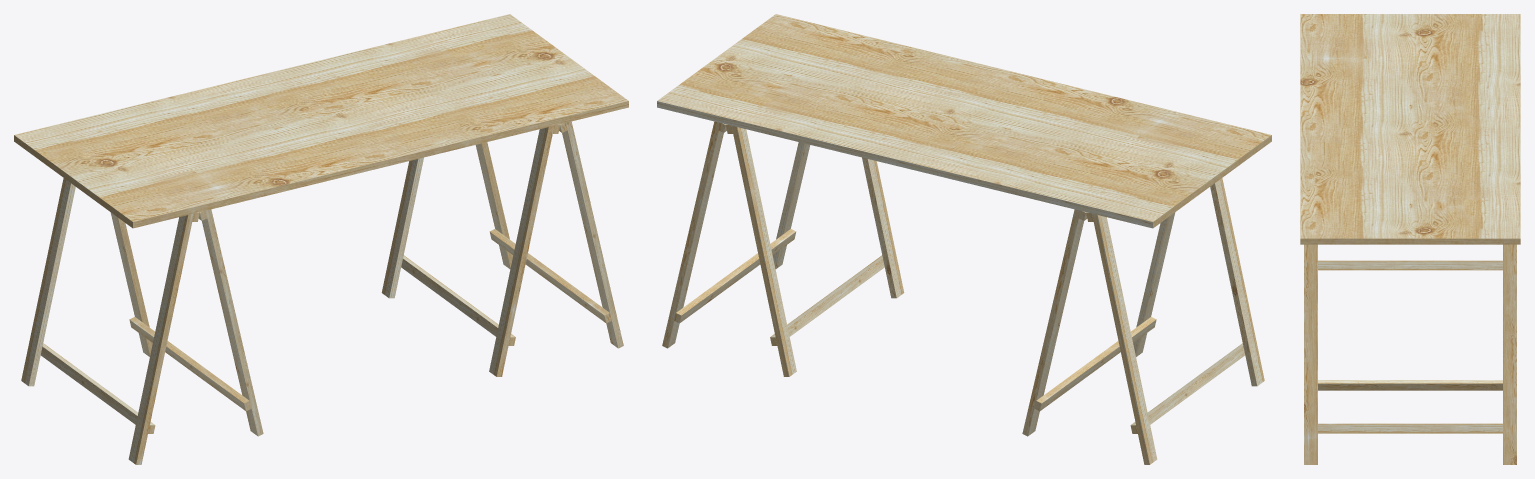
File: sweethome3d-scopia-table-on-trestles-299.glb
3 renders of one model, left to right at view 1: azimuth 30°, elevation 25°; view 2: azimuth 150°, elevation 25°; view 3: azimuth 270°, elevation 25°, orthographic. The views are drawn at different scales.
Parts seen in each view (by area): view 1: table_Cube, LeftTrestle_Cube.001, rightTrestle_Cube.002; view 2: table_Cube, LeftTrestle_Cube.001, rightTrestle_Cube.002; view 3: table_Cube, rightTrestle_Cube.002, LeftTrestle_Cube.001.
Boxes of the visible parts, x1,y1,x2,y2 form: table_Cube: [14, 14, 628, 228]; LeftTrestle_Cube.001: [21, 178, 263, 464]; rightTrestle_Cube.002: [381, 121, 623, 376]; table_Cube: [657, 14, 1271, 228]; LeftTrestle_Cube.001: [1022, 178, 1264, 464]; rightTrestle_Cube.002: [662, 121, 904, 376]; table_Cube: [1300, 14, 1520, 244]; rightTrestle_Cube.002: [1304, 244, 1516, 464]; LeftTrestle_Cube.001: [1318, 260, 1502, 270].
Size of the model in its own units: 160 by 76.13 by 66.42.
3 materials, 3 textured.
